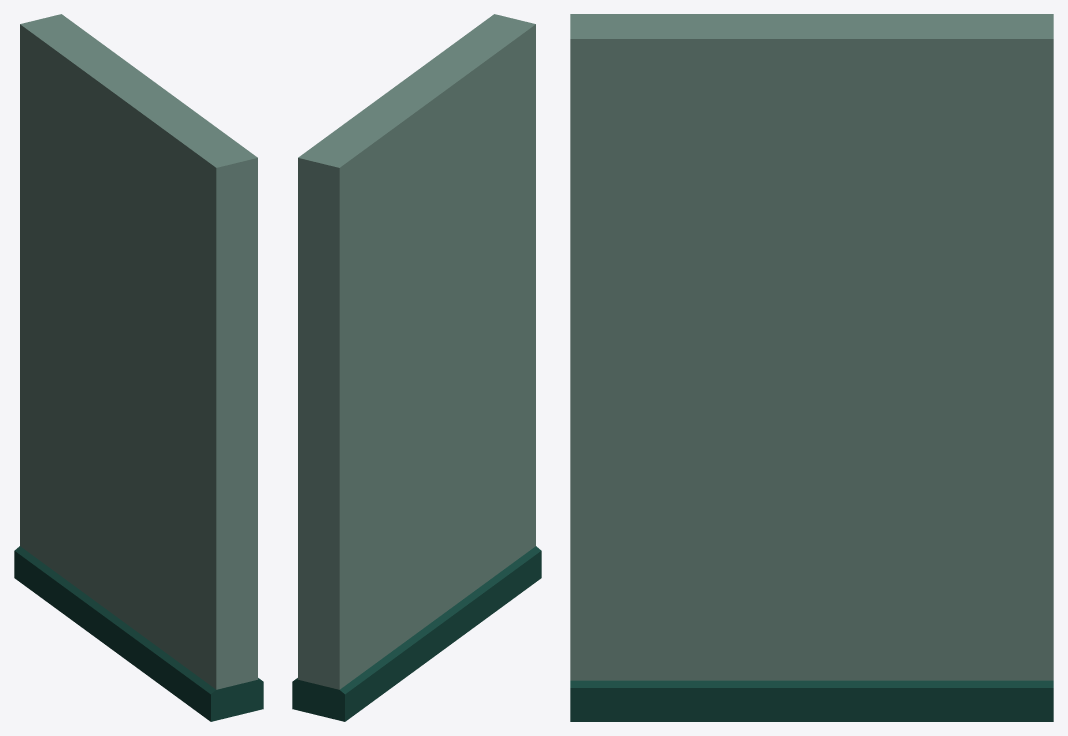
The model's file is wall.fbx.
3 views of the same model, side by side, from view 1: azimuth 30°, elevation 25°; view 2: azimuth 150°, elevation 25°; view 3: azimuth 270°, elevation 25° (orthographic). The views are drawn at different scales.
Parts seen in each view (by area): view 1: wall_geo; view 2: wall_geo; view 3: wall_geo.
Part boxes in pixels (x1,y1,x2,y2): wall_geo: (14,14,263,721); wall_geo: (292,14,541,721); wall_geo: (570,14,1053,721).
Size of the model in its own units: 72.05 by 723 by 466.
Materials: 1 (1 with a texture image).
